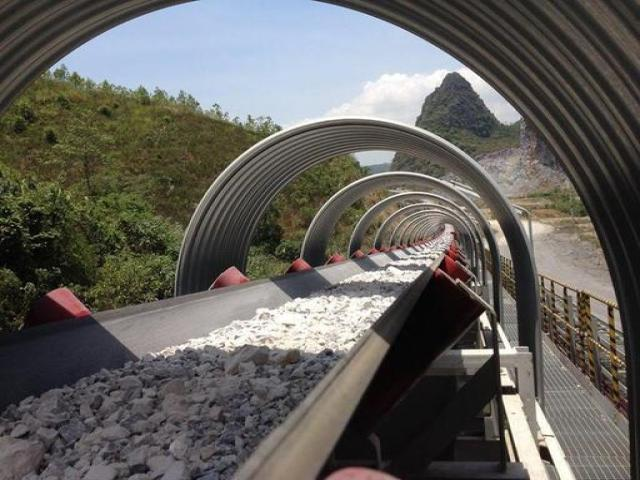conveyor: (0, 223, 499, 479)
